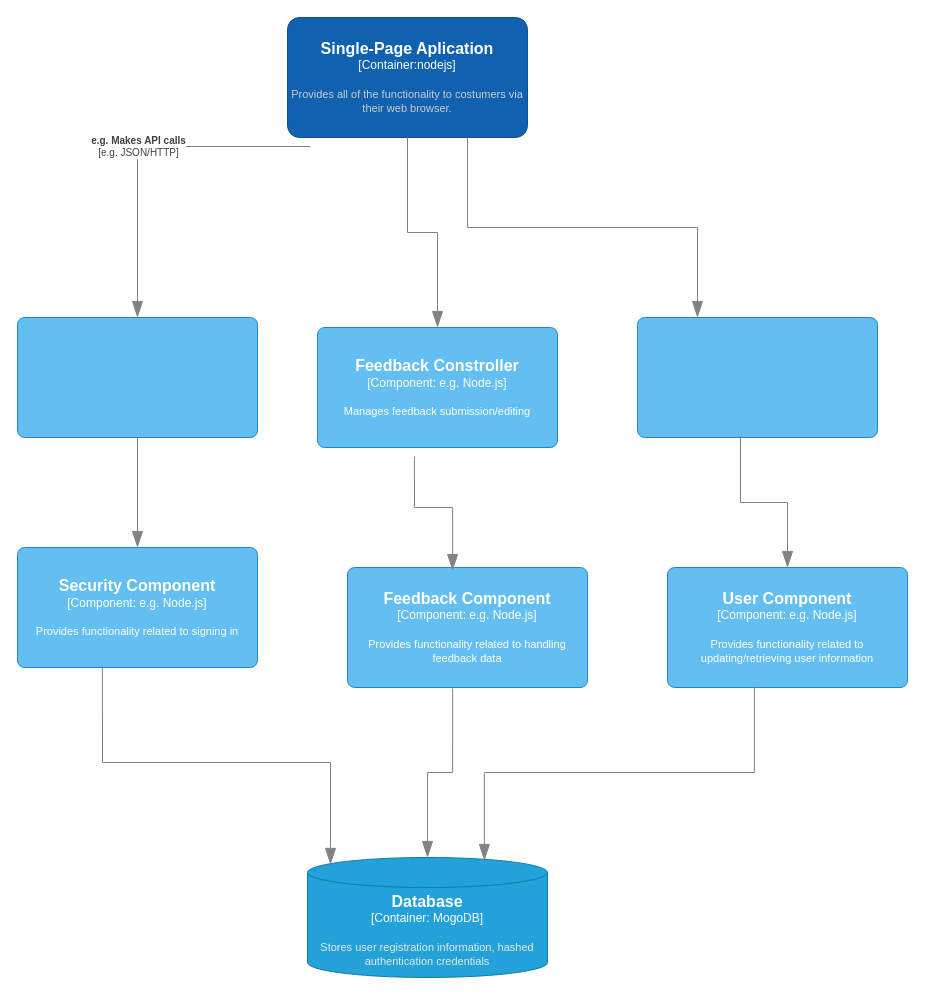
Image size: 925x995. Some labels were removed from this diagram. The shapes that lost their labels are listed below. From the top down, each one's centre as x and y in pixels, then its label:
pixel 137 377: Auth Controller [Component: e.g. Node.js] Allows users to sign in/login
pixel 757 377: User Controller [Component: e.g. Node.js] Provides information about logged user
